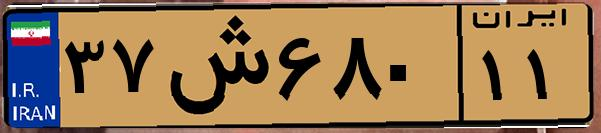0: (385, 28, 445, 110)
1: (475, 38, 525, 113), (525, 38, 570, 115)
3: (57, 26, 110, 100)
6: (270, 28, 330, 110)
7: (110, 28, 158, 98)
8: (330, 28, 385, 110)
ش: (158, 12, 270, 120)
